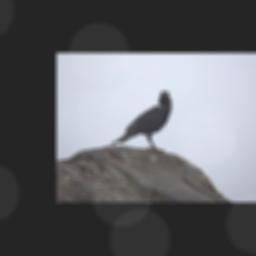Crow: (111, 89, 173, 150)
